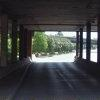Bridge: (2, 2, 96, 71)
